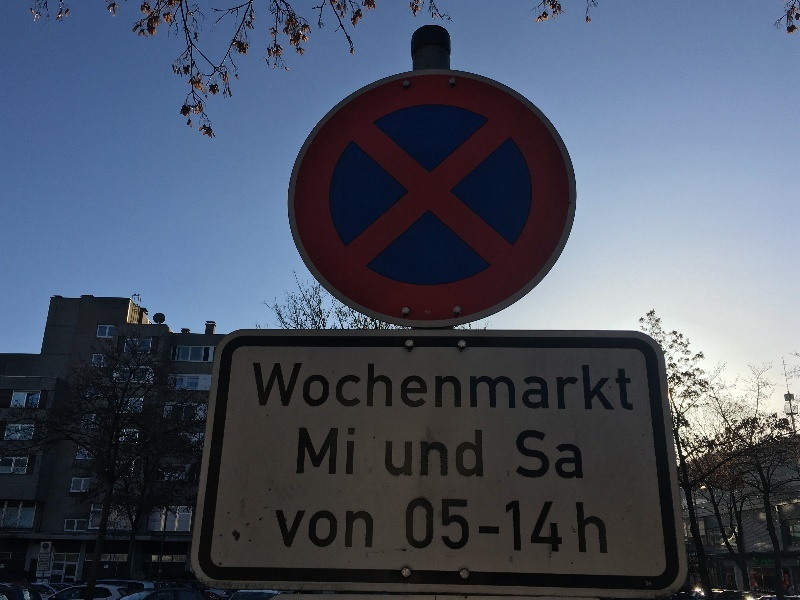text: (593, 497, 609, 555), (417, 497, 432, 555), (433, 497, 448, 555), (449, 497, 464, 555), (465, 497, 480, 555), (481, 497, 496, 555), (497, 497, 512, 555), (513, 497, 528, 555), (529, 497, 544, 555), (545, 497, 560, 555), (561, 497, 576, 555), (577, 497, 592, 555), (257, 362, 272, 413), (273, 362, 288, 413), (289, 362, 304, 413), (305, 362, 320, 413), (321, 362, 336, 413), (337, 362, 352, 413), (353, 362, 368, 413), (369, 362, 384, 413), (385, 362, 400, 413), (401, 362, 416, 413), (417, 362, 432, 413), (433, 362, 448, 413), (449, 362, 464, 413), (465, 362, 480, 413), (481, 362, 496, 413), (497, 362, 512, 413), (513, 362, 528, 413), (529, 362, 544, 413), (545, 362, 560, 413), (561, 362, 576, 413), (577, 362, 592, 413), (593, 362, 608, 413), (609, 362, 624, 413), (305, 427, 320, 478), (321, 427, 336, 478), (337, 427, 352, 478), (529, 431, 544, 479), (545, 431, 560, 479), (561, 431, 576, 479), (385, 430, 400, 477), (401, 430, 416, 477), (417, 430, 432, 477), (433, 430, 448, 477), (449, 430, 464, 477), (465, 430, 480, 477), (406, 497, 416, 555), (289, 511, 304, 548), (305, 511, 320, 548), (321, 511, 336, 548), (337, 511, 352, 548), (353, 511, 368, 548), (517, 431, 528, 479), (275, 511, 288, 548), (625, 362, 634, 413), (577, 431, 583, 479), (369, 511, 375, 548), (300, 427, 304, 478), (253, 362, 256, 413), (353, 427, 356, 478), (481, 430, 484, 477), (754, 559, 768, 565), (425, 310, 432, 315), (769, 559, 774, 565), (40, 563, 48, 566), (39, 566, 48, 568), (39, 568, 48, 570), (40, 558, 48, 560), (40, 560, 48, 562), (43, 550, 48, 553), (41, 556, 48, 558), (42, 554, 48, 556), (44, 568, 48, 570), (45, 566, 48, 568), (49, 556, 50, 558)
